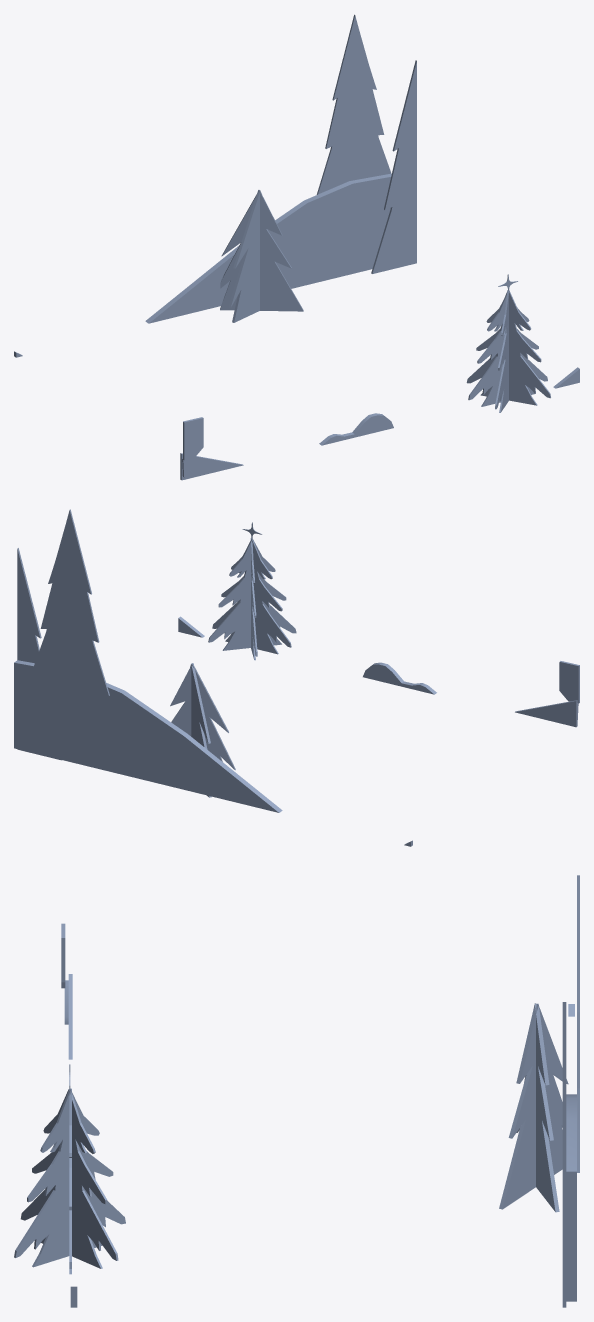
Rendered from frame_0053.glb.
The picture shows the model from 3 angles, top to bottom: view 1: azimuth 30°, elevation 25°; view 2: azimuth 150°, elevation 25°; view 3: azimuth 270°, elevation 25°; orthographic projection. The views are drawn at different scales.
Parts seen in each view (by area): view 1: export_trees_001.002; view 2: export_trees_001.002; view 3: export_trees_001.002.
Boxes of the visible parts, bbox=[...] form: export_trees_001.002: bbox=[14, 14, 579, 480]; export_trees_001.002: bbox=[14, 509, 579, 846]; export_trees_001.002: bbox=[14, 875, 579, 1307].
Bounding box in the file's own units: 0.4327 × 0.2681 × 0.3523.
